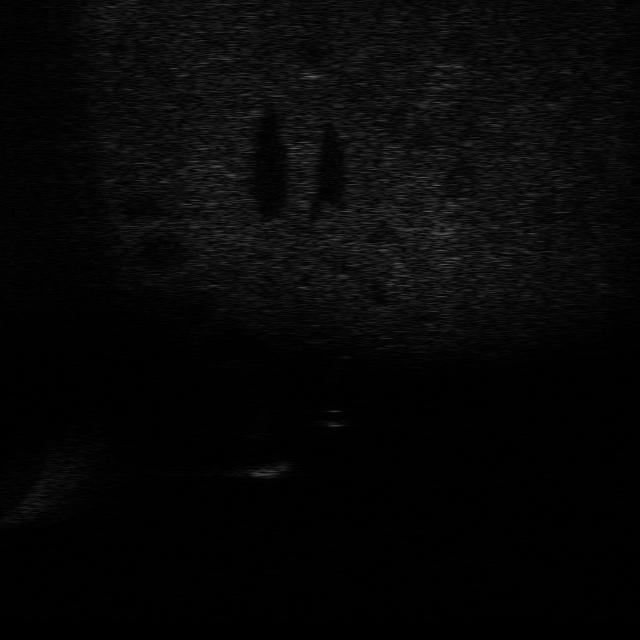ball: (313, 408, 352, 432)
human body: (322, 323, 350, 384)
square cage: (240, 450, 295, 480)
